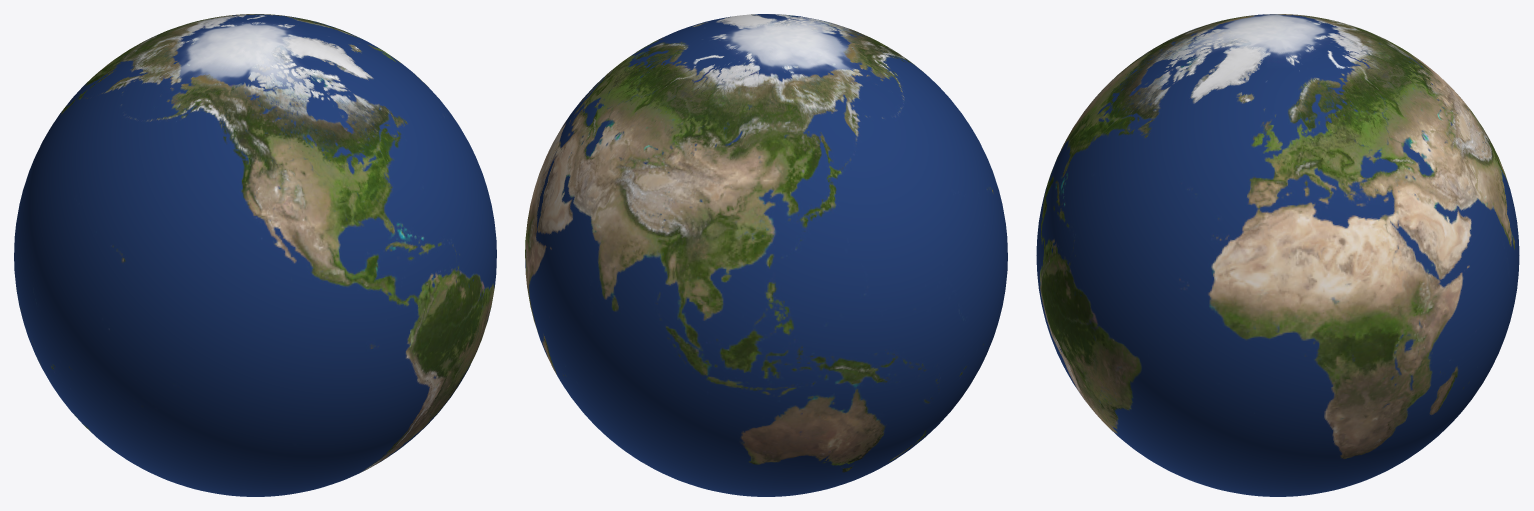
Rendered from earth.gltf.
3 views of the same model, side by side, from view 1: azimuth 30°, elevation 25°; view 2: azimuth 150°, elevation 25°; view 3: azimuth 270°, elevation 25° (orthographic).
Parts seen in each view (by area): view 1: Sphere; view 2: Sphere; view 3: Sphere.
Boxes of the visible parts, left/top/right/bottom form: Sphere: left=14, top=14, right=496, bottom=496; Sphere: left=525, top=14, right=1007, bottom=496; Sphere: left=1036, top=14, right=1519, bottom=496.
Size of the model in its own units: 2 by 2 by 2.
1 material, 1 textured.
